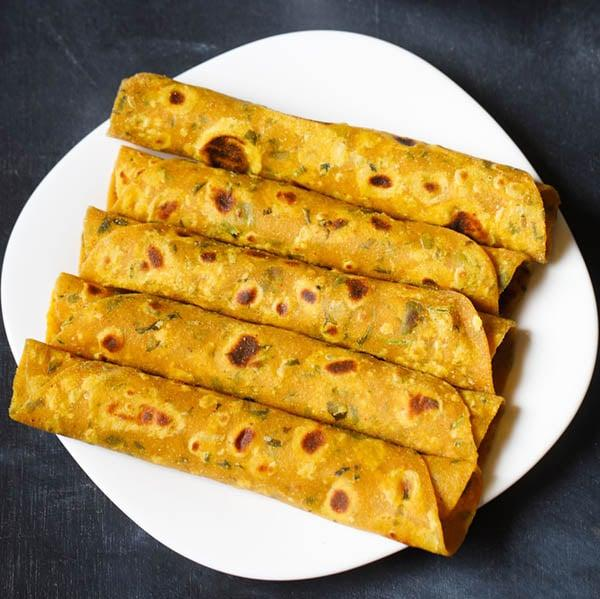thepla: (64, 91, 529, 551)
